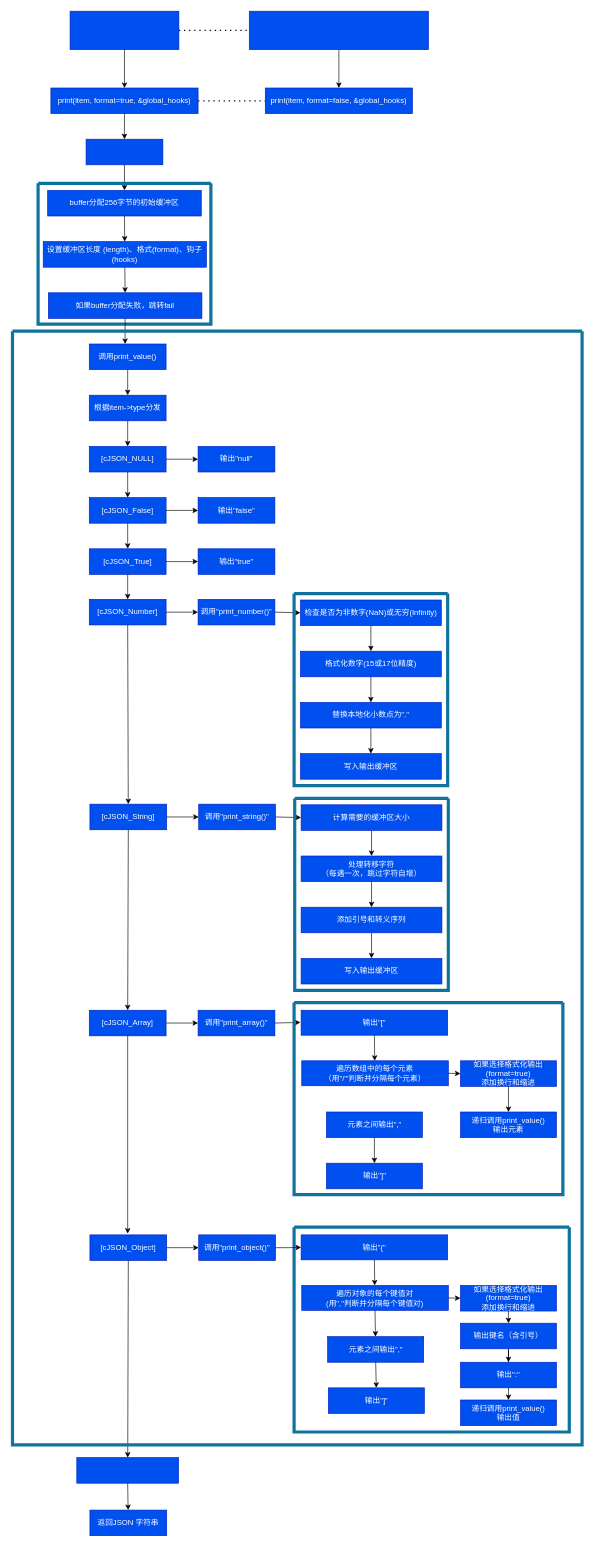
This 595x1547 diagram has some shape labels left out. Here are the shapes that lost their labels. From the top down, the centre of each, then its label:
At pixel 124 30: "cJSON_Print(cJSON *item)".
At pixel 338 30: "cJSON_PrintUnformatted(cJSON *item)".
At pixel 124 152: "初始化printbuffer".
At pixel 127 1470: "调整缓冲区大小到实际需要".
